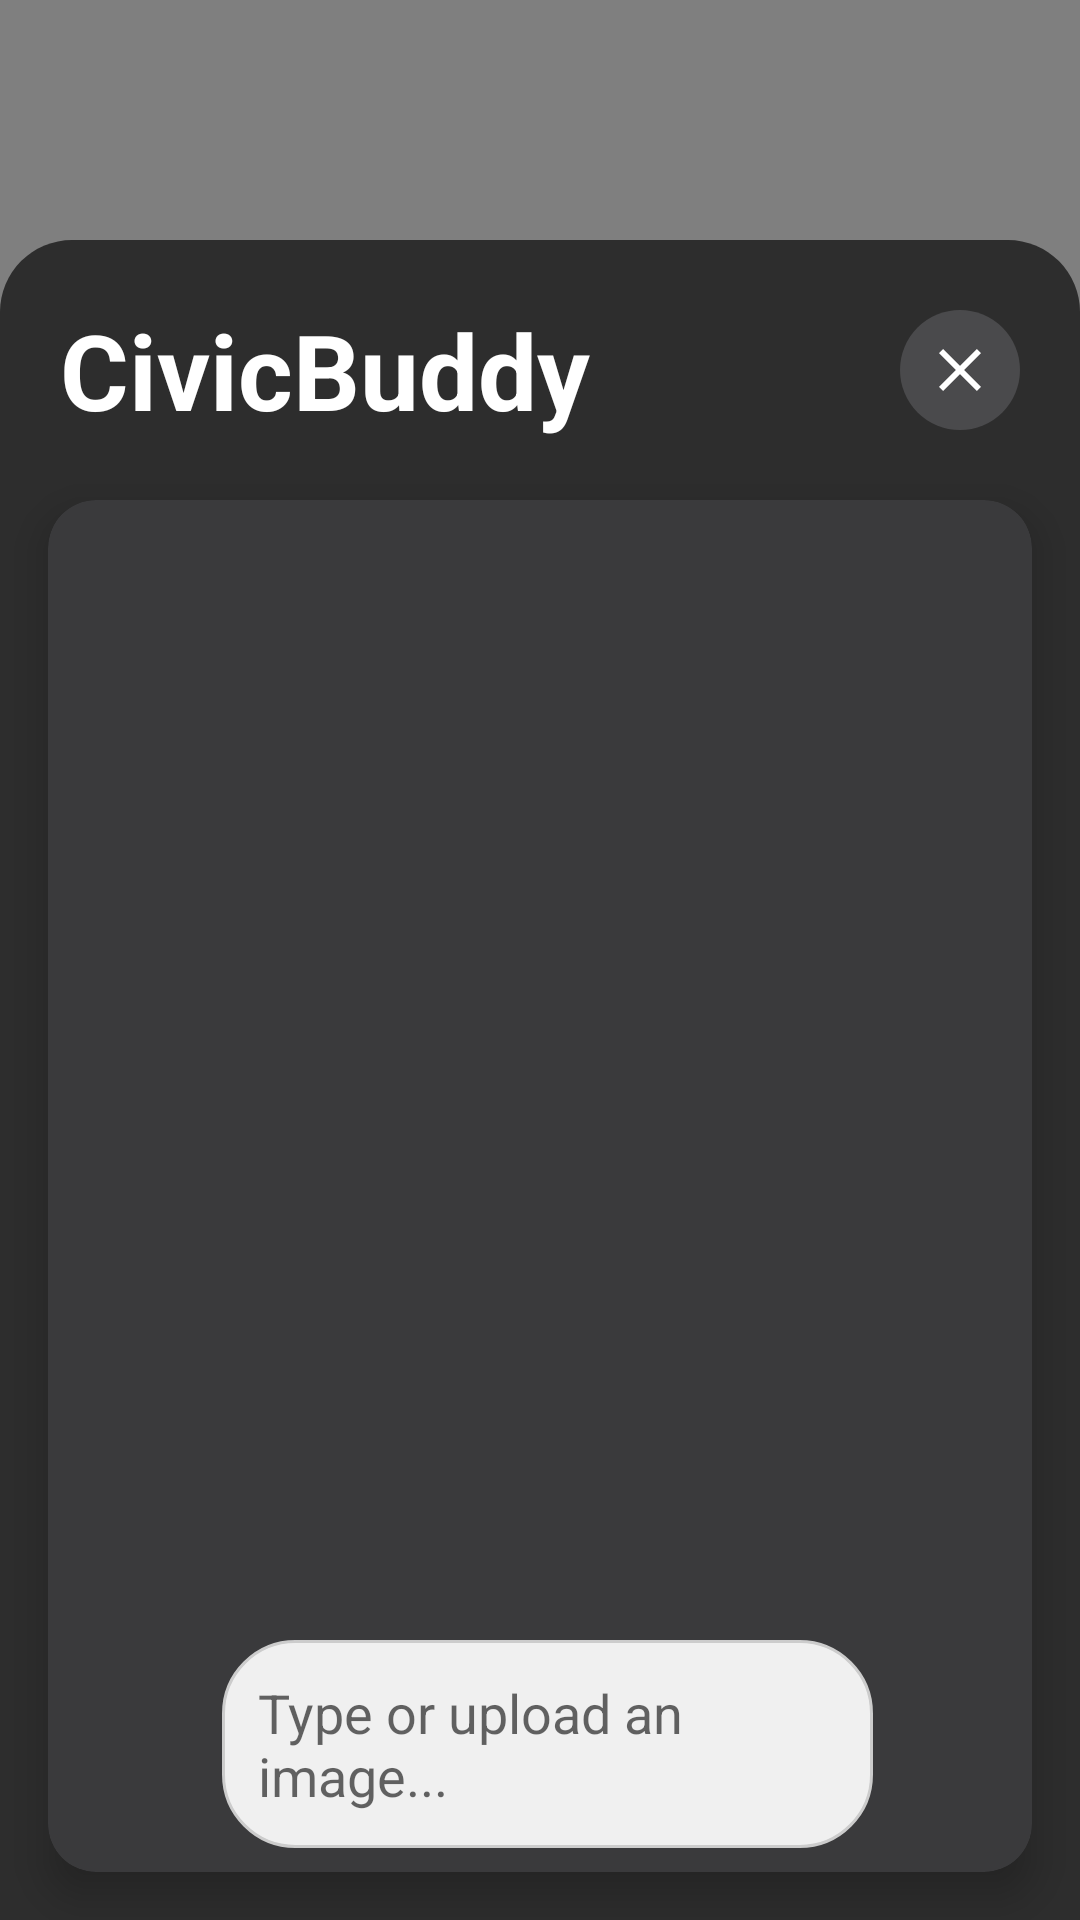

Icons on this 1080 × 1920 Android screen, each with the point to tap as point (x, y):
Close: point (960, 370)
